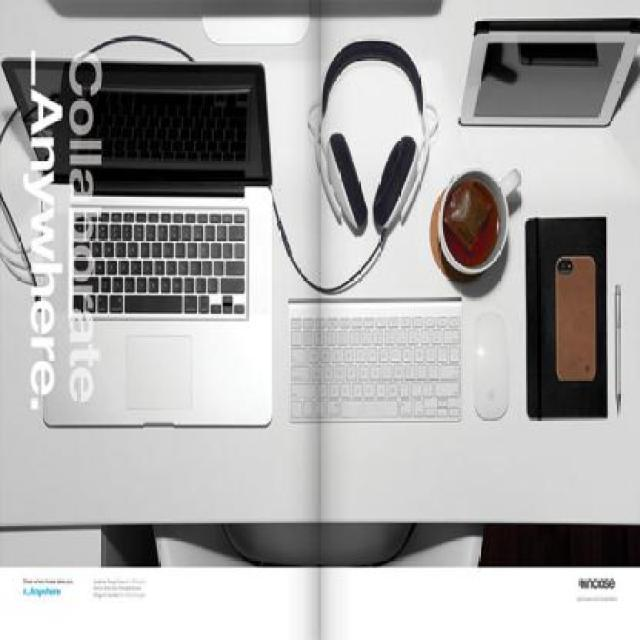earphone: (313, 38, 437, 238)
laptop_computer: (5, 42, 285, 448)
mouse: (470, 312, 520, 440)
smart phone: (555, 256, 600, 396)
tablet: (462, 15, 632, 148)
